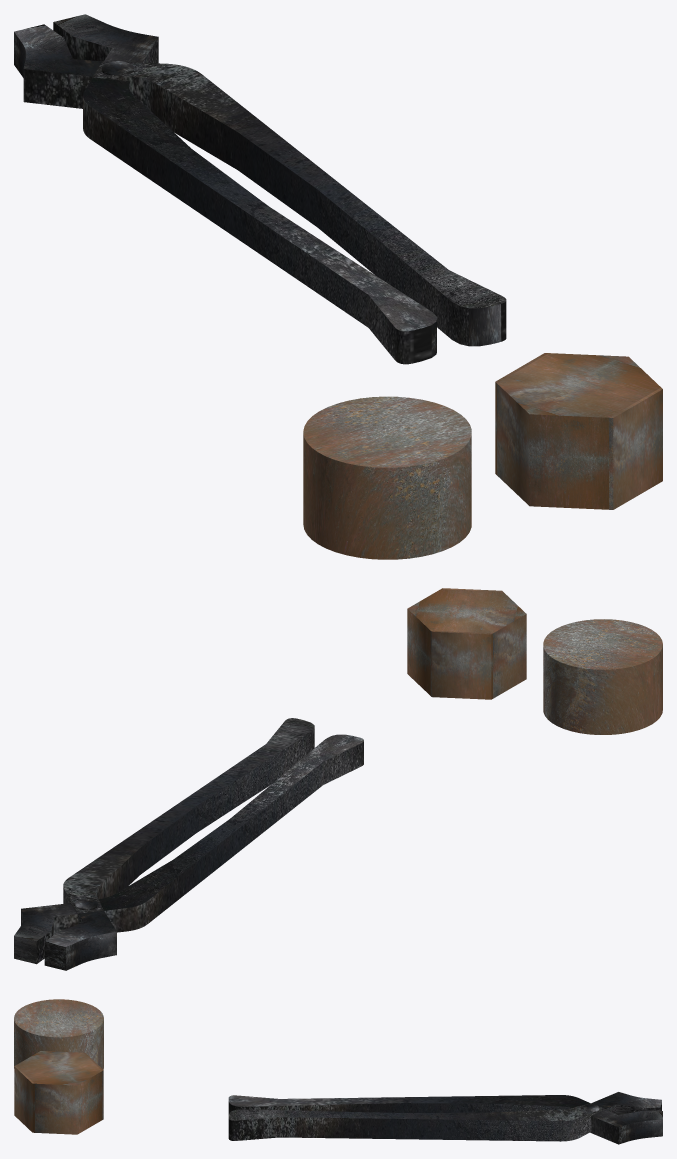
The model's file is Стали.fbx.
3 renders of one model, top to bottom at view 1: azimuth 30°, elevation 25°; view 2: azimuth 150°, elevation 25°; view 3: azimuth 270°, elevation 25°, orthographic. The views are drawn at different scales.
Visible parts, largest first — view 1: Box003, Box005, Cylinder001, Cylinder002; view 2: Box003, Box005, Cylinder001, Cylinder002; view 3: Box003, Box005, Cylinder002, Cylinder001.
Part boxes in pixels (box(x1,y1,x2,y2)): Box003: box(14, 24, 506, 346); Box005: box(53, 14, 436, 364); Cylinder001: box(303, 396, 471, 559); Cylinder002: box(495, 353, 662, 509); Box003: box(44, 718, 314, 970); Box005: box(14, 734, 363, 964); Cylinder001: box(543, 619, 662, 734); Cylinder002: box(407, 588, 526, 699); Box003: box(228, 1092, 661, 1141); Box005: box(228, 1095, 662, 1144); Cylinder002: box(14, 1051, 103, 1134); Cylinder001: box(14, 999, 103, 1069).
Size of the model in its own units: 39.74 by 9.82 by 114.
Materials: 2 (2 with a texture image).
